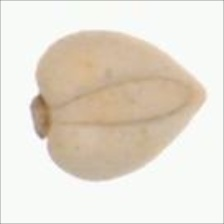L5: (54, 72, 193, 130), (25, 87, 56, 146), (190, 66, 209, 128)
L6: (24, 28, 210, 183)
